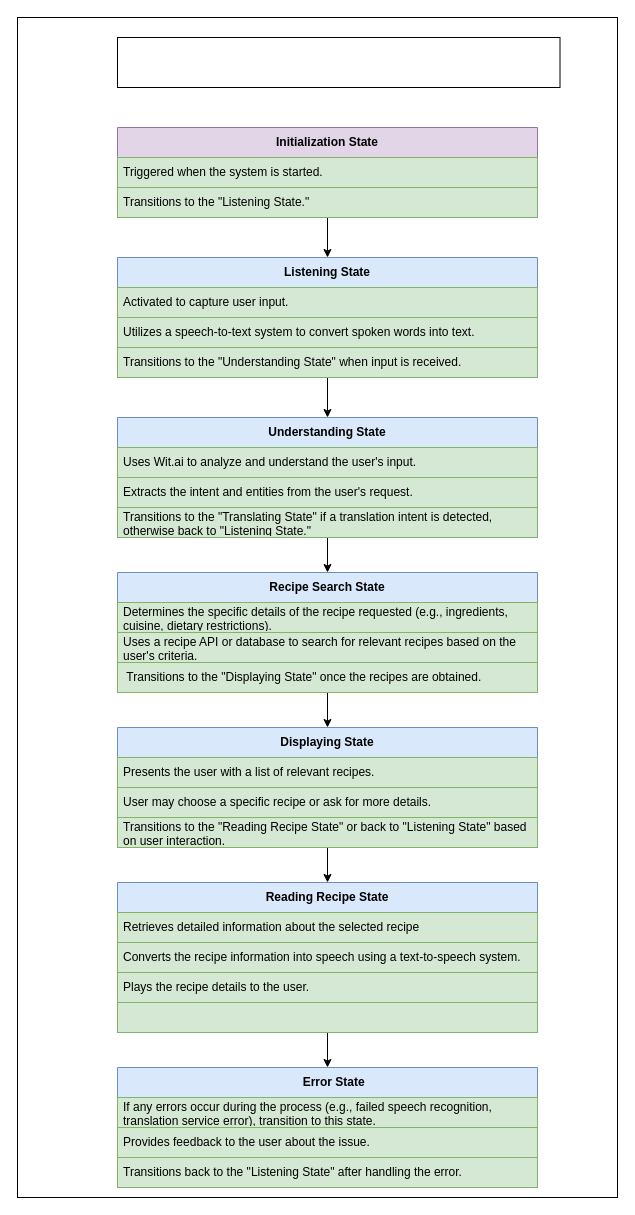
Image size: 635x1215. Some labels were removed from this diagram. Each missing label, with the centre of its shape:
Transitions back to the "Listening State" for the next user input.: [327,1017]
Voice Recipe Search System: [338,62]
